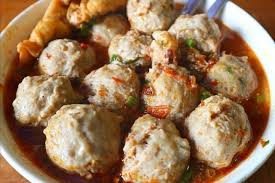bakso: (39, 18, 267, 180)
